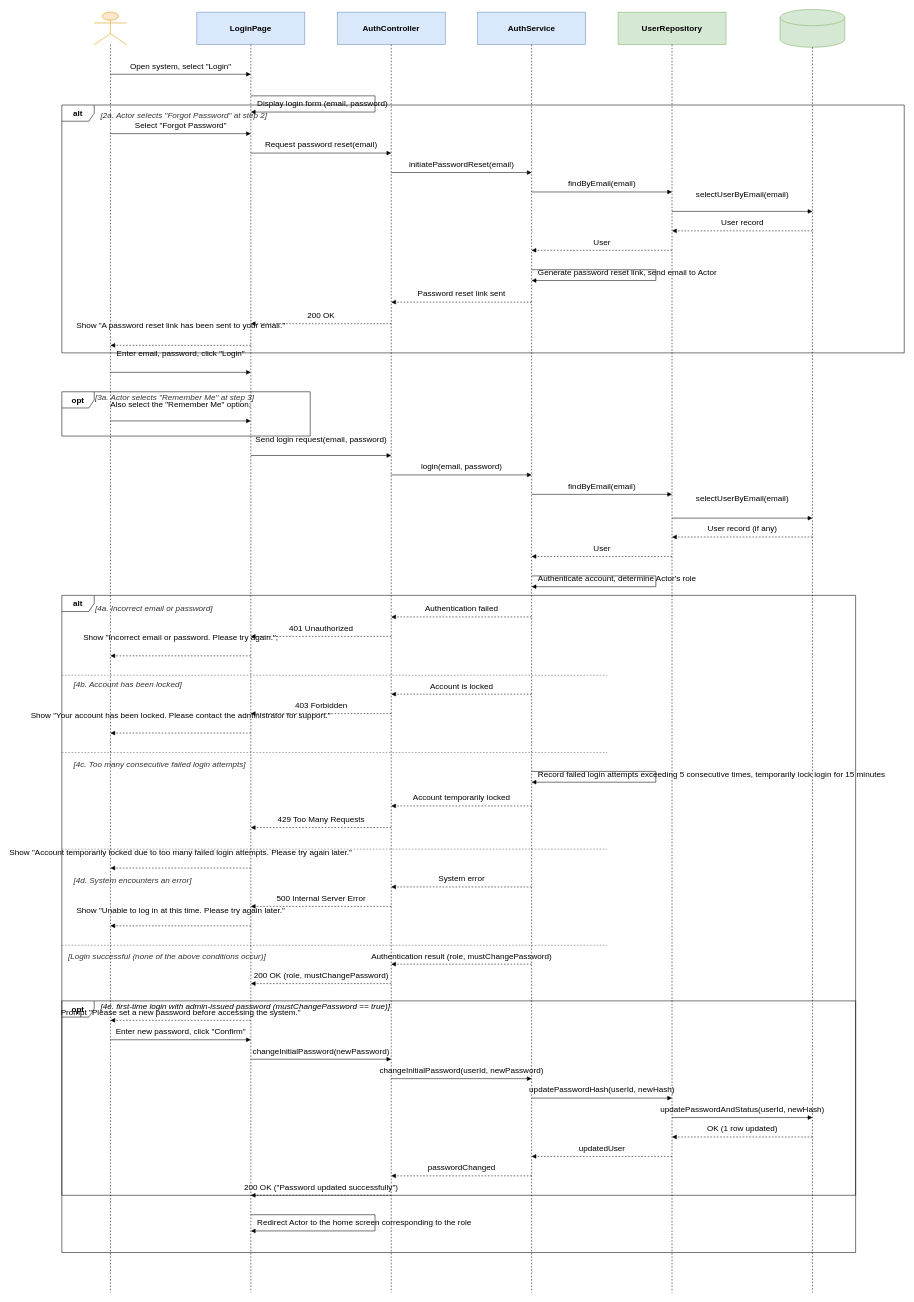
Some shapes in this 914 by 1302 pixel diagram are drawn without their labels. The shapes that lost their labels are listed below. From the top down, each one's centre as x and y in pixels, then its label:
the point at 110,28: Actor (Teacher / Admin)
the point at 812,28: PostgreSQL
